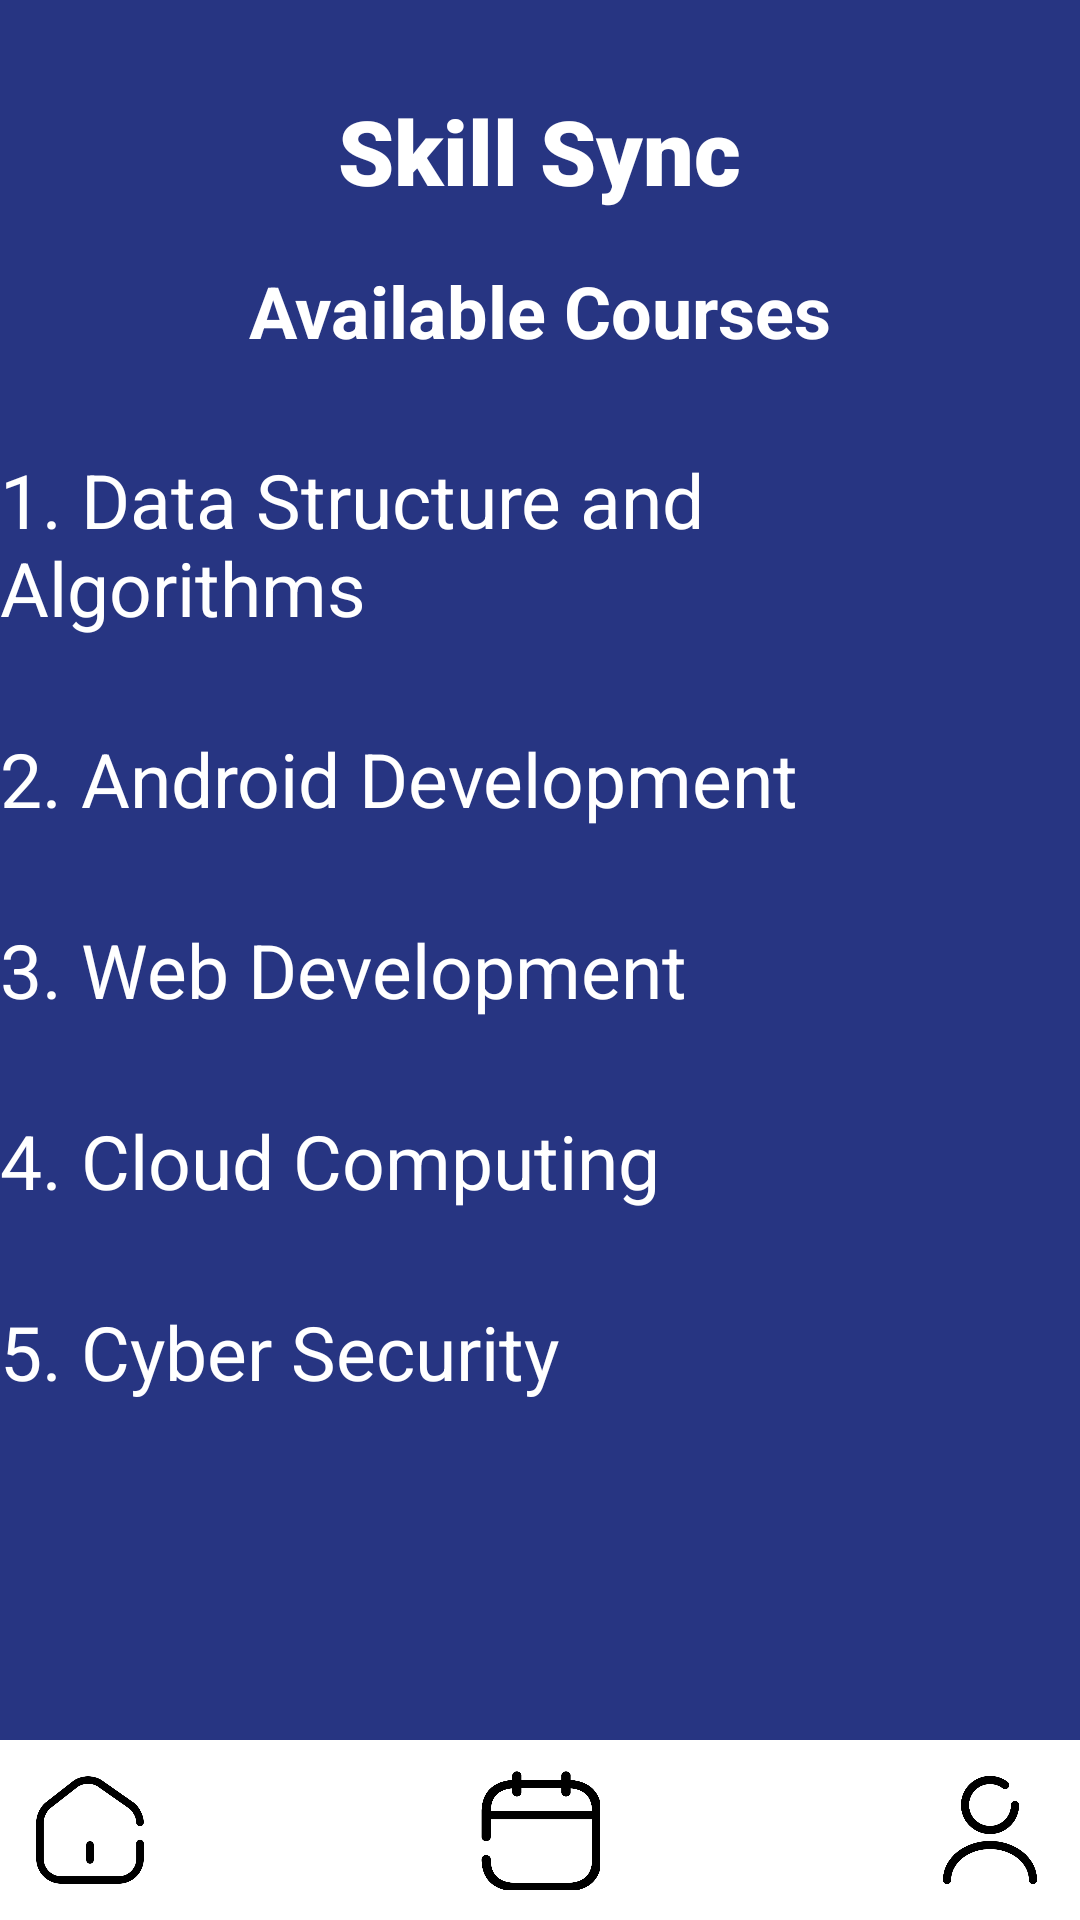

Icon click points for this 1080 × 1920 phone screenshot, format (x,y):
calender: (540,1830)
home: (90,1830)
user: (990,1830)
